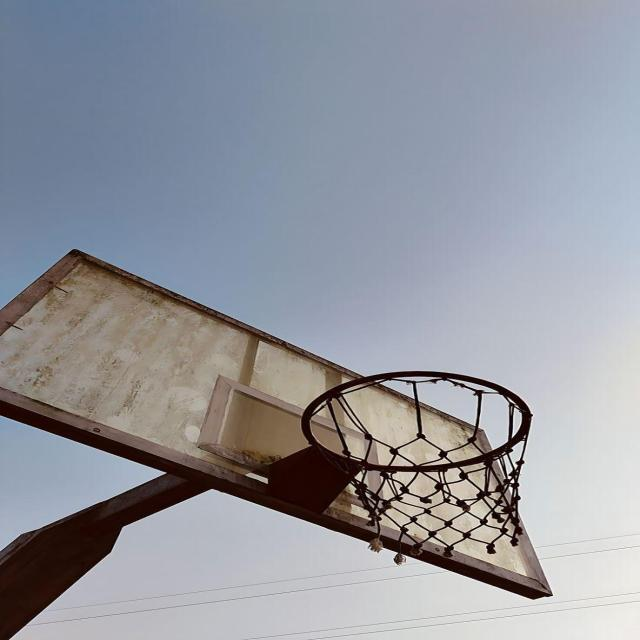hoop: (281, 370, 583, 556)
